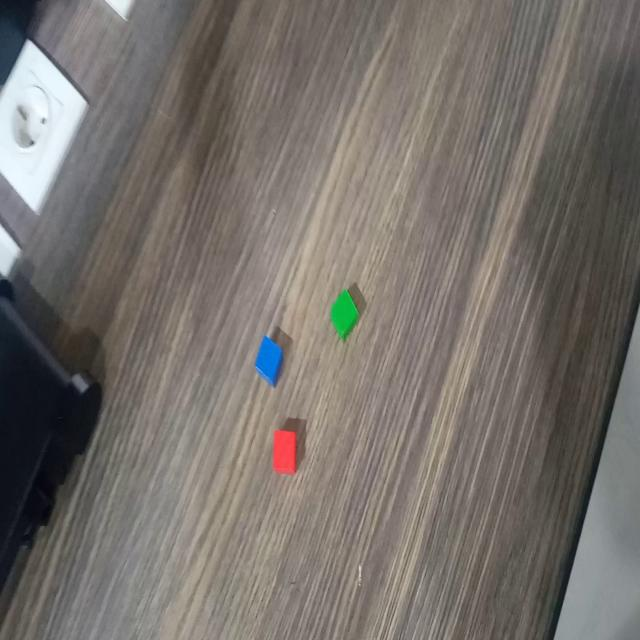cube: (328, 283, 362, 342), (253, 331, 284, 392), (270, 424, 299, 479)
